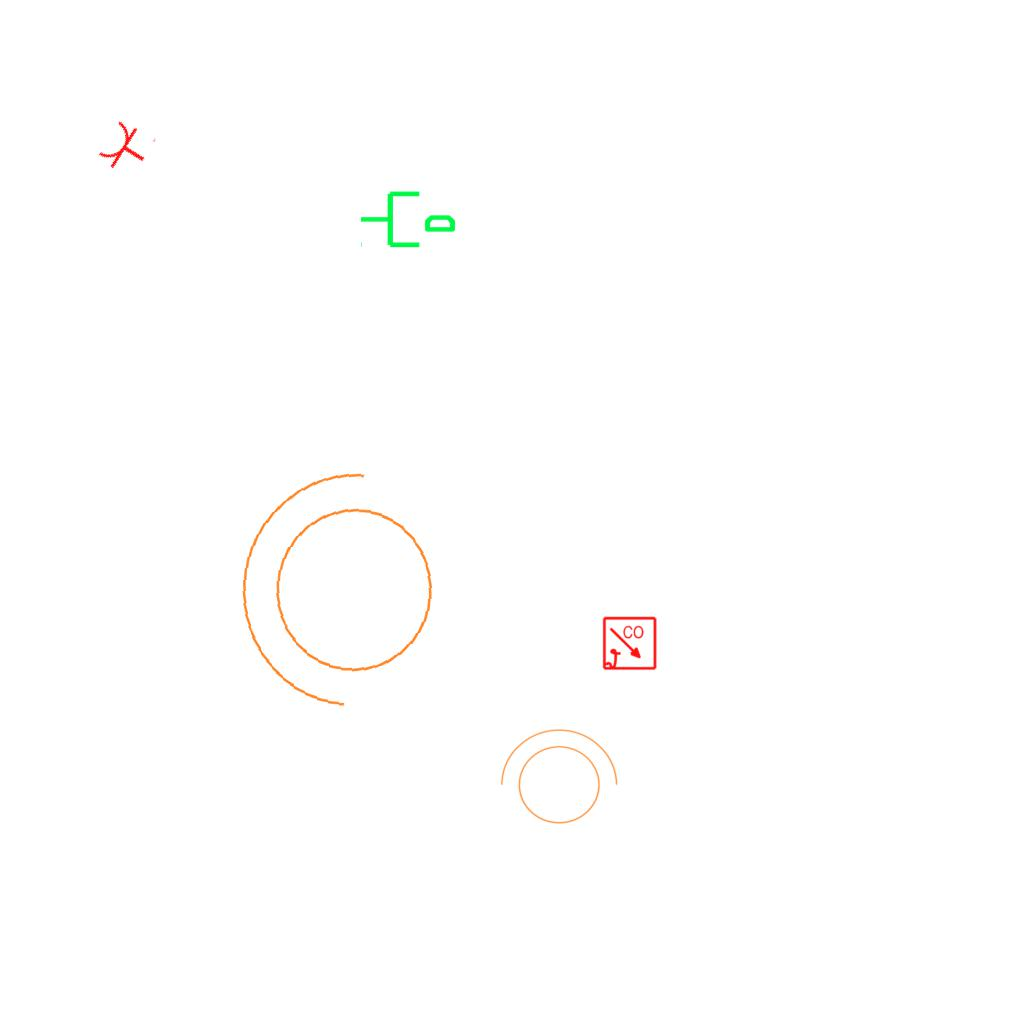Datenanschluss_einfach: (358, 183, 458, 252)
ROA_Rauchmelder_optisch_mit_Signalgeber_(Sockelsirene): (602, 616, 658, 672)
Scheinwerfer_fuer_Alarmbeleuchtung: (220, 454, 468, 737), (490, 724, 622, 836)
Schukosteckdose_einfach: (95, 115, 158, 181)
